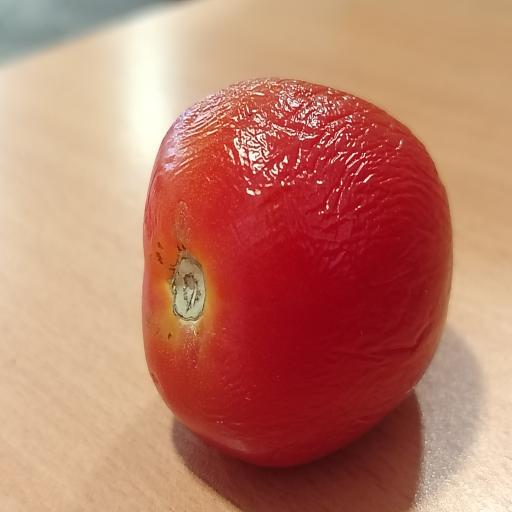spoiled: (143, 79, 452, 465)
